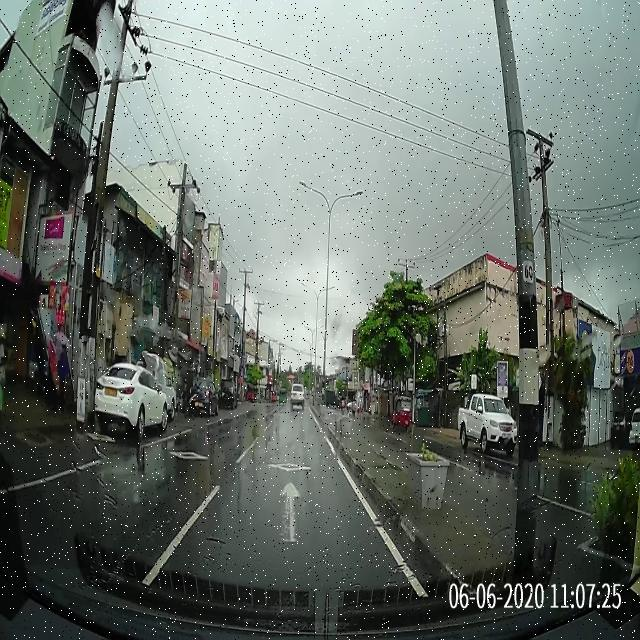diamond: (228, 449, 357, 481)
forward: (156, 481, 417, 571)
